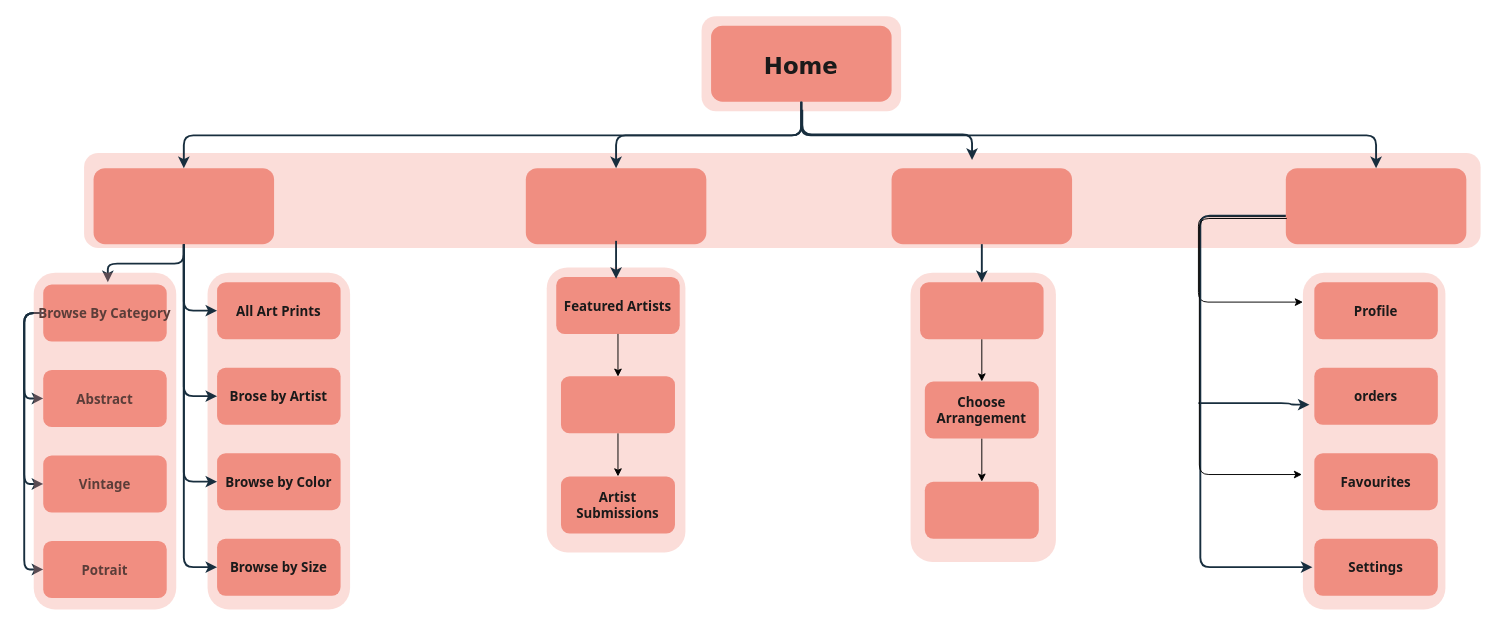
Some shapes in this 1496 by 626 pixel diagram are drawn without their labels. Here are the shapes that lost their labels. From the top down, the centre of each, then its label:
At point (183, 206): "Shop".
At point (615, 206): "Artists".
At point (981, 206): "Virtual Wall".
At point (1375, 206): "My Account".
At point (981, 310): "Create Wall Space".
At point (617, 404): "All Artists".
At point (981, 509): "Place Wall Arts".
